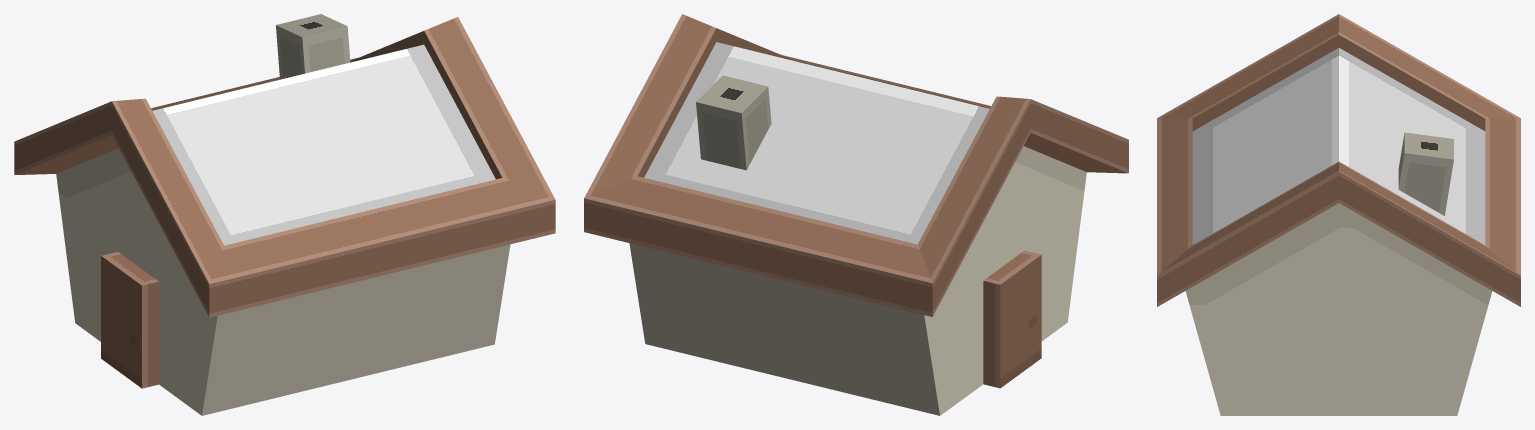
Rendered from House.fbx.
3 renders of one model, left to right at view 1: azimuth 30°, elevation 25°; view 2: azimuth 150°, elevation 25°; view 3: azimuth 270°, elevation 25°, orthographic. The views are drawn at different scales.
Visible parts, largest first — view 1: House; view 2: House; view 3: House.
Boxes of the visible parts, x1=… form: House: x1=14, y1=14, x2=555, y2=415; House: x1=584, y1=14, x2=1128, y2=415; House: x1=1157, y1=14, x2=1520, y2=415.
Size of the model in its own units: 59.11 by 44.86 by 57.65.
